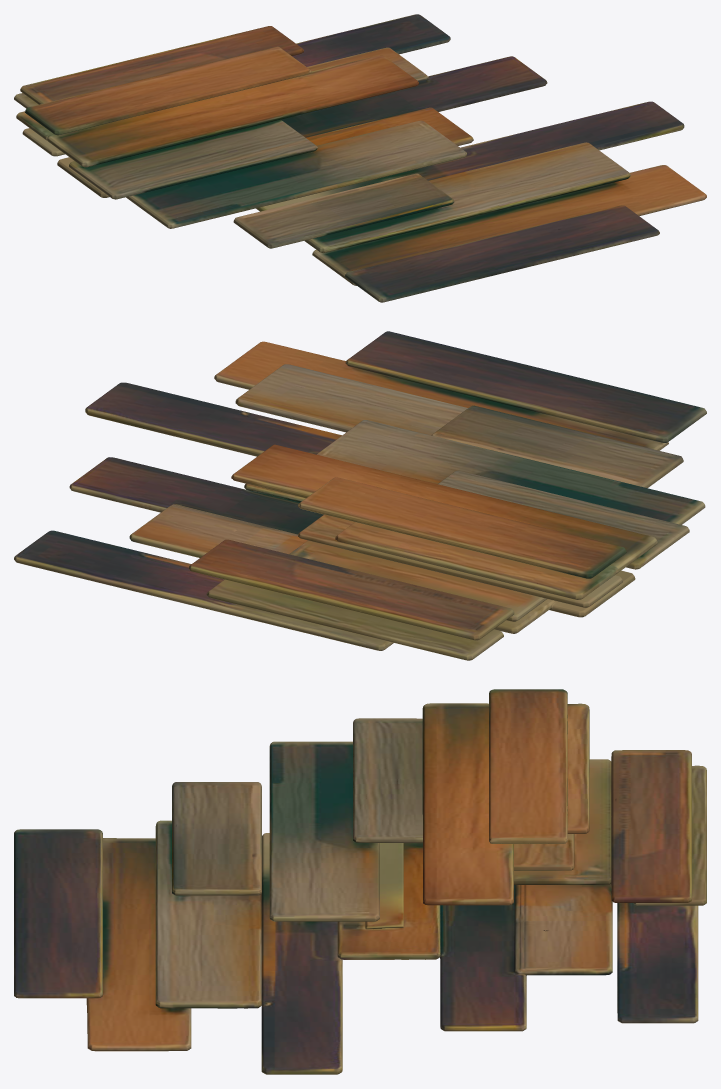
3 views of the same model, one above another, from view 1: azimuth 30°, elevation 25°; view 2: azimuth 150°, elevation 25°; view 3: azimuth 270°, elevation 25° (orthographic). The views are drawn at different scales.
Parts seen in each view (by area): view 1: material; view 2: material; view 3: material.
Part boxes in pixels (<box>): material: <box>14,14,706,302</box>; material: <box>14,331,706,660</box>; material: <box>14,689,706,1074</box>.
Bounding box in the file's own units: 0.9711 × 0.1127 × 0.9027.
1 material, 1 textured.
